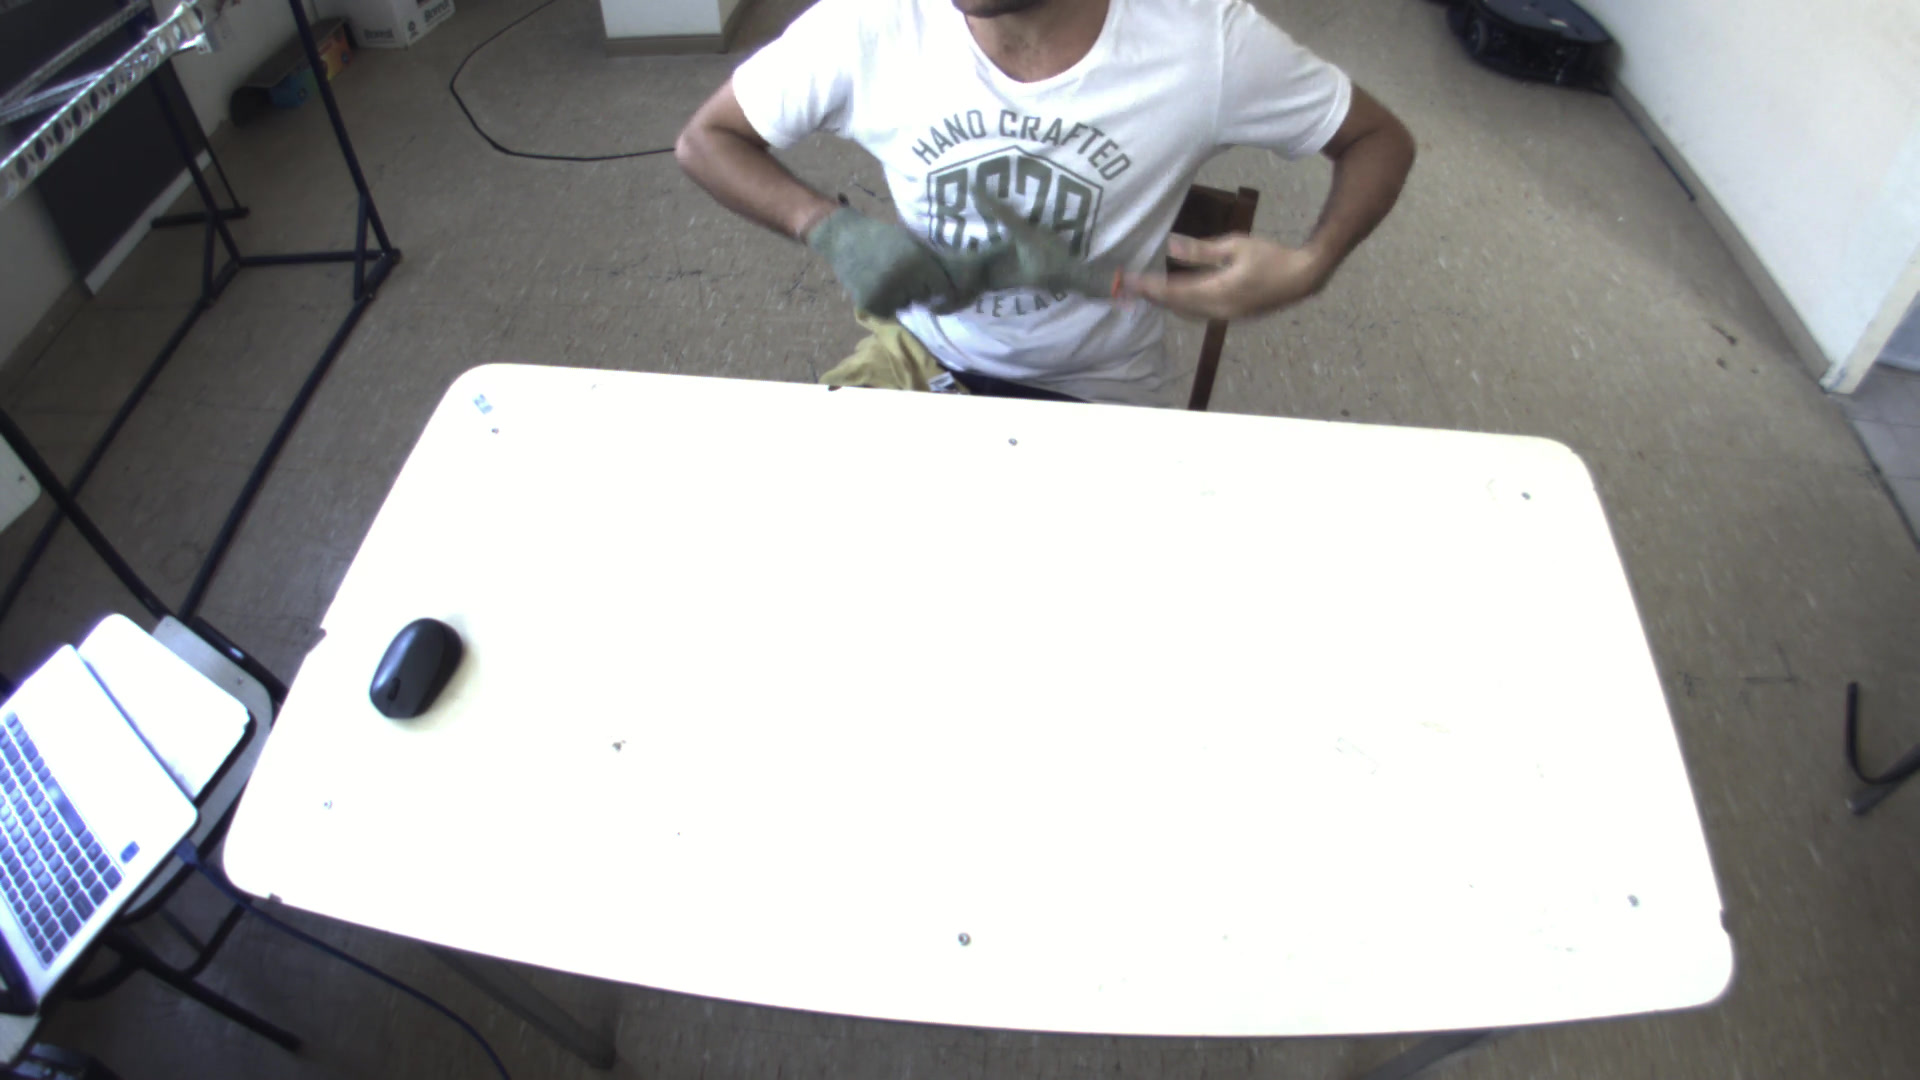hand: (1106, 212, 1317, 330), (798, 200, 930, 301)
